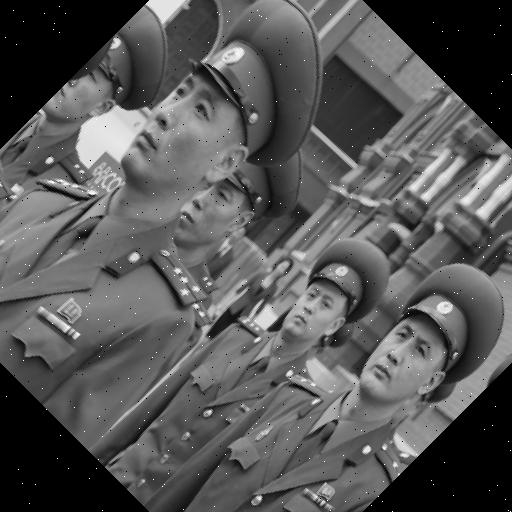north army: (32, 4, 512, 507)
